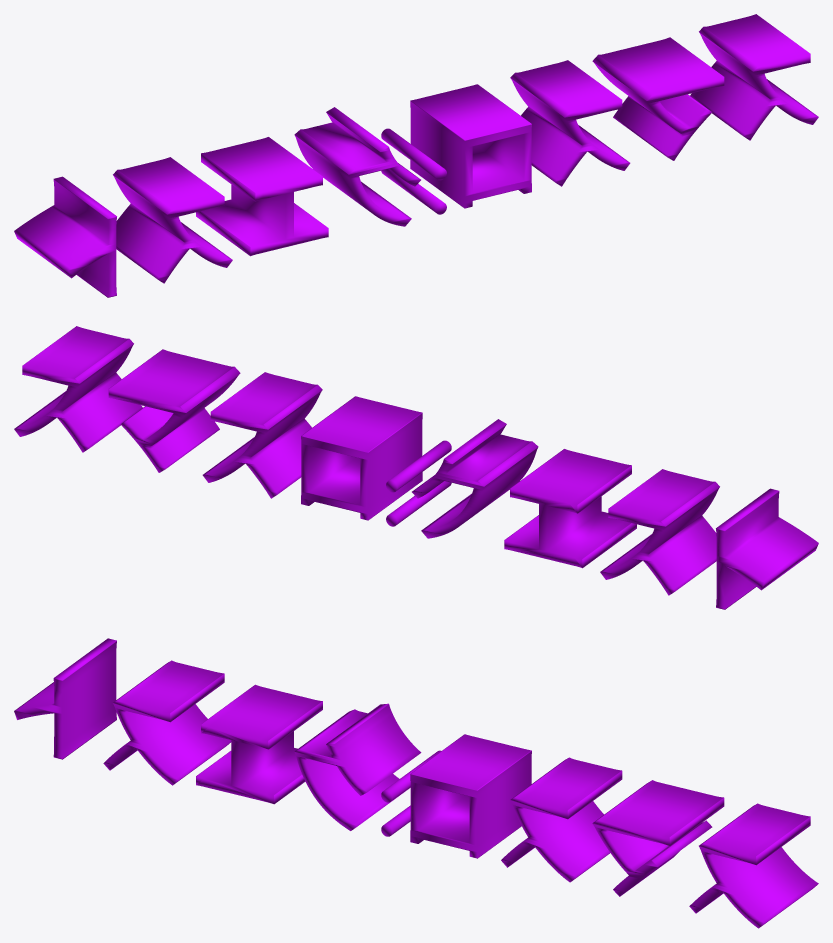
The model's file is Title.obj.
The picture shows the model from 3 angles, top to bottom: view 1: azimuth 30°, elevation 25°; view 2: azimuth 150°, elevation 25°; view 3: azimuth 330°, elevation 25°; orthographic projection.
Parts seen in each view (by area): view 1: テキスト; view 2: テキスト; view 3: テキスト.
Part boxes in pixels (left/top/right/bottom): テキスト: left=14, top=14, right=818, bottom=297; テキスト: left=14, top=326, right=818, bottom=609; テキスト: left=14, top=638, right=818, bottom=928.
Size of the model in its own units: 17.27 by 1.85 by 2.17.
1 material, 1 textured.
